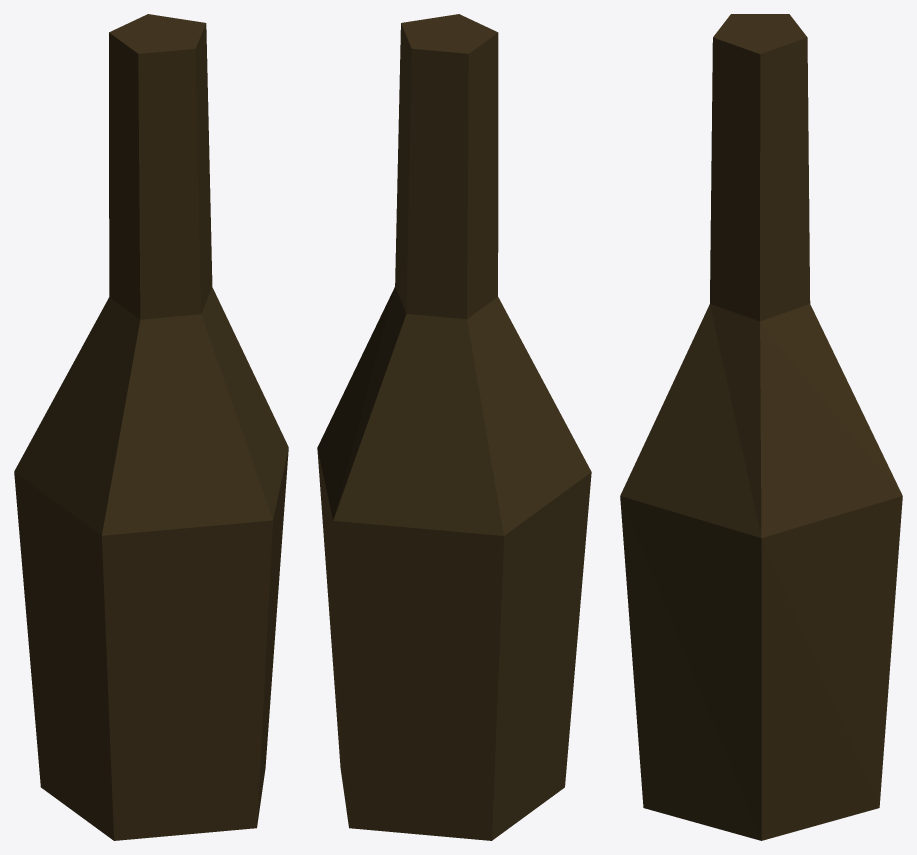
File: ITFO_BEER_01.OBJ
The picture shows the model from 3 angles, left to right: view 1: azimuth 30°, elevation 25°; view 2: azimuth 150°, elevation 25°; view 3: azimuth 270°, elevation 25°; orthographic projection.
Visible parts, largest first — view 1: ITFO_BEER_01; view 2: ITFO_BEER_01; view 3: ITFO_BEER_01.
Part boxes in pixels (<box>): ITFO_BEER_01: <box>14,14,288,840</box>; ITFO_BEER_01: <box>317,14,591,840</box>; ITFO_BEER_01: <box>620,14,902,840</box>.
Bounding box in the file's own units: 0.101 × 0.318 × 0.1075.
